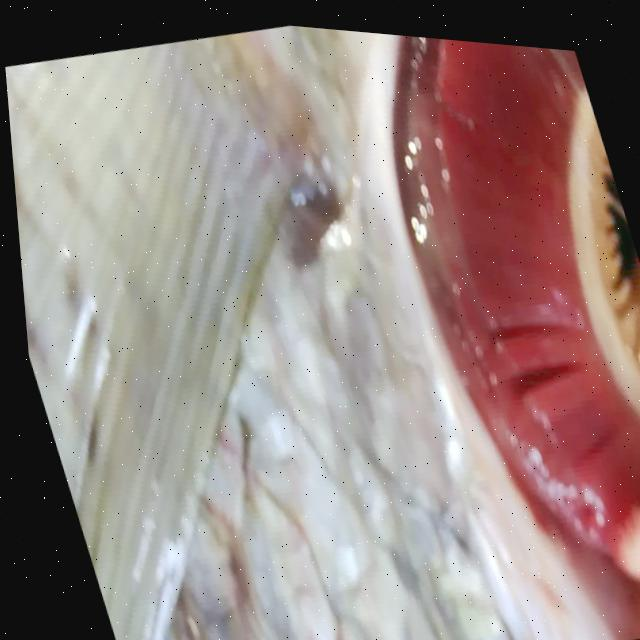Fresh: (323, 23, 640, 622)
